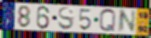5: (78, 8, 93, 32)
6: (36, 5, 51, 30)
8: (17, 5, 32, 29)
N: (117, 9, 137, 34)
Q: (99, 8, 117, 34)
S: (57, 6, 75, 31)
